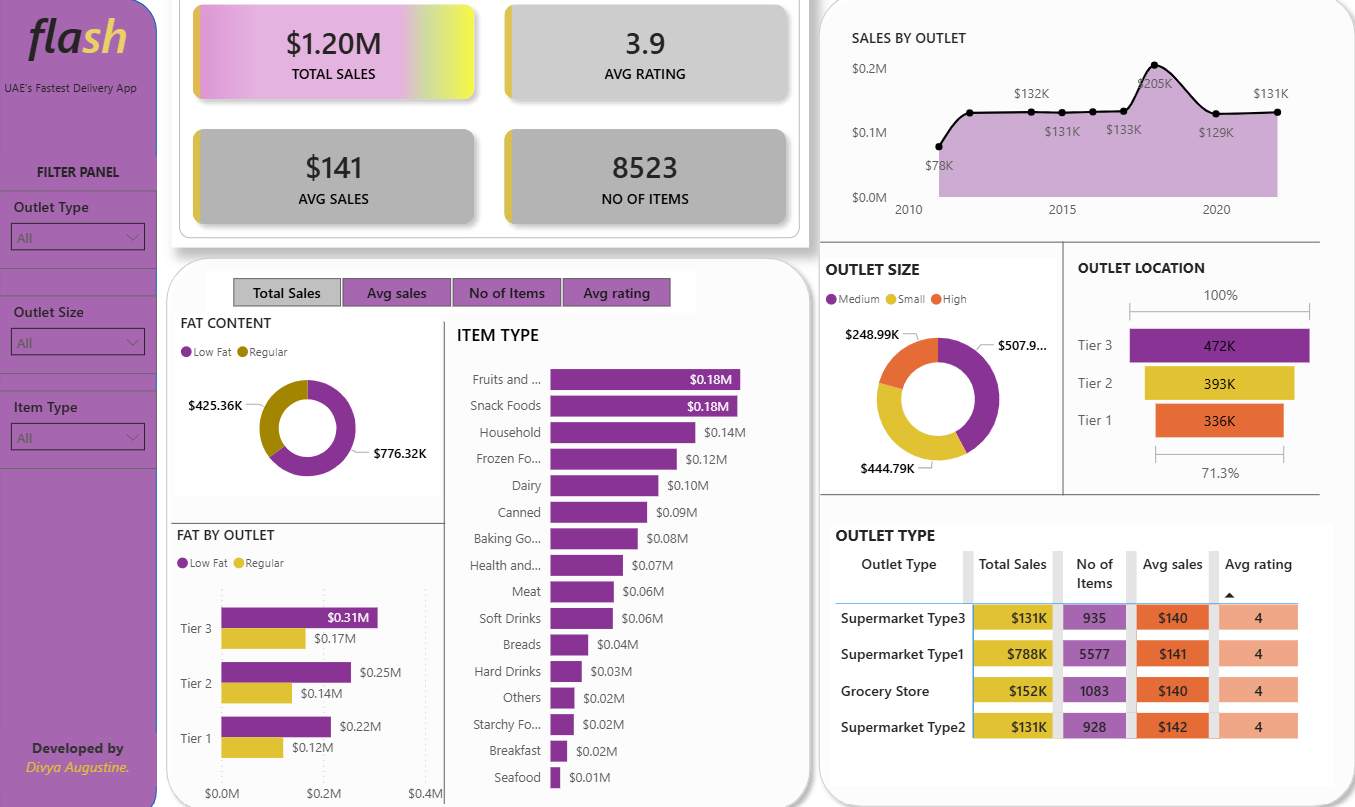

The dashboard page shown, as its layout file describes it:
{"tool":"powerbi","page":{"name":"Page 1","canvas":[1280,800],"ordinal":0},"visuals":[{"type":"shape","box":[0,13.6,148,773.9],"z":0},{"type":"textbox","box":[0,14.1,147.6,69.1],"z":1000},{"type":"textbox","box":[0,83.2,147.6,41],"z":2000},{"type":"cardVisual","fields":{"Data":["BlinkIT Grocery Data.Total Sales","BlinkIT Grocery Data.Avg rating","BlinkIT Grocery Data.Avg sales","BlinkIT Grocery Data.No of Items"]},"box":[161.7,0,597.4,248],"z":3000},{"type":"shape","box":[148,248.5,621.8,539],"z":4000},{"type":"slicer","title":"FAT CONTENT","fields":{"Values":["BlinkIT Grocery Data.Outlet Location Type"]},"box":[0,194.1,148,73.3],"z":5000},{"type":"slicer","fields":{"Values":["Metrics.Metrics"]},"box":[193.2,269.9,460.3,39.7],"z":6000},{"type":"clusteredBarChart","title":"FAT BY OUTLET","fields":{"Y":["BlinkIT Grocery Data.Total Sales"],"Category":["BlinkIT Grocery Data.Outlet Location Type"],"Series":["BlinkIT Grocery Data.Item Fat Content"]},"box":[161.9,507.7,262.1,270.3],"z":7000},{"type":"shape","box":[161.6,491.5,256.6,31.2],"z":8000},{"type":"shape","box":[411.4,317.7,12.2,452.1],"z":9000},{"type":"barChart","title":"ITEM TYPE","fields":{"Y":["BlinkIT Grocery Data.Total Sales"],"Category":["BlinkIT Grocery Data.Item Type"]},"box":[424.4,317.4,318.6,452.6],"z":10000},{"type":"shape","box":[758.9,0,521.3,782],"z":11000},{"type":"lineChart","title":"SALES BY OUTLET","fields":{"Category":["BlinkIT Grocery Data.Outlet Establishment Year"],"Y":["BlinkIT Grocery Data.Total Sales"]},"box":[794.2,42.1,422.2,188.7],"z":12000},{"type":"shape","box":[769.8,226.7,468.4,31.2],"z":13000},{"type":"donutChart","title":"OUTLET SIZE","fields":{"Y":["BlinkIT Grocery Data.Total Sales"],"Category":["BlinkIT Grocery Data.Outlet Size"]},"box":[769.8,258,221.3,217.2],"z":14000},{"type":"shape","box":[991.1,243,12.2,237.6],"z":15000},{"type":"funnel","title":"OUTLET LOCATION","fields":{"Y":["Sum(BlinkIT Grocery Data.Sales)"],"Category":["BlinkIT Grocery Data.Outlet Location Type"]},"box":[1006,258,232.2,217.2],"z":16000},{"type":"shape","box":[769.8,464.3,468.4,31.2],"z":17000},{"type":"pivotTable","title":"OUTLET TYPE","fields":{"Rows":["BlinkIT Grocery Data.Outlet Type"],"Values":["BlinkIT Grocery Data.Total Sales","BlinkIT Grocery Data.No of Items","BlinkIT Grocery Data.Avg sales","BlinkIT Grocery Data.Avg rating"]},"box":[779.3,507.8,471.1,245.7],"z":18000},{"type":"donutChart","title":"FAT CONTENT","fields":{"Y":["BlinkIT Grocery Data.Total Sales"],"Category":["BlinkIT Grocery Data.Item Fat Content"]},"box":[165.6,309.5,248.5,171.1],"z":19000},{"type":"slicer","title":"FAT CONTENT","fields":{"Values":["BlinkIT Grocery Data.Outlet Size"]},"box":[0,293.3,148,73.3],"z":20000},{"type":"slicer","title":"FAT CONTENT","fields":{"Values":["BlinkIT Grocery Data.Item Type"]},"box":[0,381.5,148,73.3],"z":21000},{"type":"textbox","box":[0,162.9,148,31.2],"z":22000},{"type":"textbox","box":[0,703,147.6,50.4],"z":22001}]}

Visuals, with their boxes on the page's 1280x800 design canvas (x1, y1, x2, y2). These are canvas units, not pixel positions in the 1355x807 screenshot, which may show the page scaled, cropped or inside an application window:
shape: {"x1": 0, "y1": 14, "x2": 148, "y2": 788}
textbox: {"x1": 0, "y1": 14, "x2": 148, "y2": 83}
textbox: {"x1": 0, "y1": 83, "x2": 148, "y2": 124}
cardVisual - BlinkIT Grocery Data.Total Sales x BlinkIT Grocery Data.Avg rating: {"x1": 162, "y1": 0, "x2": 759, "y2": 248}
shape: {"x1": 148, "y1": 248, "x2": 770, "y2": 788}
"FAT CONTENT" slicer: {"x1": 0, "y1": 194, "x2": 148, "y2": 267}
slicer - Metrics.Metrics: {"x1": 193, "y1": 270, "x2": 654, "y2": 310}
"FAT BY OUTLET" clusteredBarChart: {"x1": 162, "y1": 508, "x2": 424, "y2": 778}
shape: {"x1": 162, "y1": 492, "x2": 418, "y2": 523}
shape: {"x1": 411, "y1": 318, "x2": 424, "y2": 770}
"ITEM TYPE" barChart: {"x1": 424, "y1": 317, "x2": 743, "y2": 770}
shape: {"x1": 759, "y1": 0, "x2": 1280, "y2": 782}
"SALES BY OUTLET" lineChart: {"x1": 794, "y1": 42, "x2": 1216, "y2": 231}
shape: {"x1": 770, "y1": 227, "x2": 1238, "y2": 258}
"OUTLET SIZE" donutChart: {"x1": 770, "y1": 258, "x2": 991, "y2": 475}
shape: {"x1": 991, "y1": 243, "x2": 1003, "y2": 481}
"OUTLET LOCATION" funnel: {"x1": 1006, "y1": 258, "x2": 1238, "y2": 475}
shape: {"x1": 770, "y1": 464, "x2": 1238, "y2": 496}
"OUTLET TYPE" pivotTable: {"x1": 779, "y1": 508, "x2": 1250, "y2": 754}
"FAT CONTENT" donutChart: {"x1": 166, "y1": 310, "x2": 414, "y2": 481}
"FAT CONTENT" slicer: {"x1": 0, "y1": 293, "x2": 148, "y2": 367}
"FAT CONTENT" slicer: {"x1": 0, "y1": 382, "x2": 148, "y2": 455}
textbox: {"x1": 0, "y1": 163, "x2": 148, "y2": 194}
textbox: {"x1": 0, "y1": 703, "x2": 148, "y2": 753}
